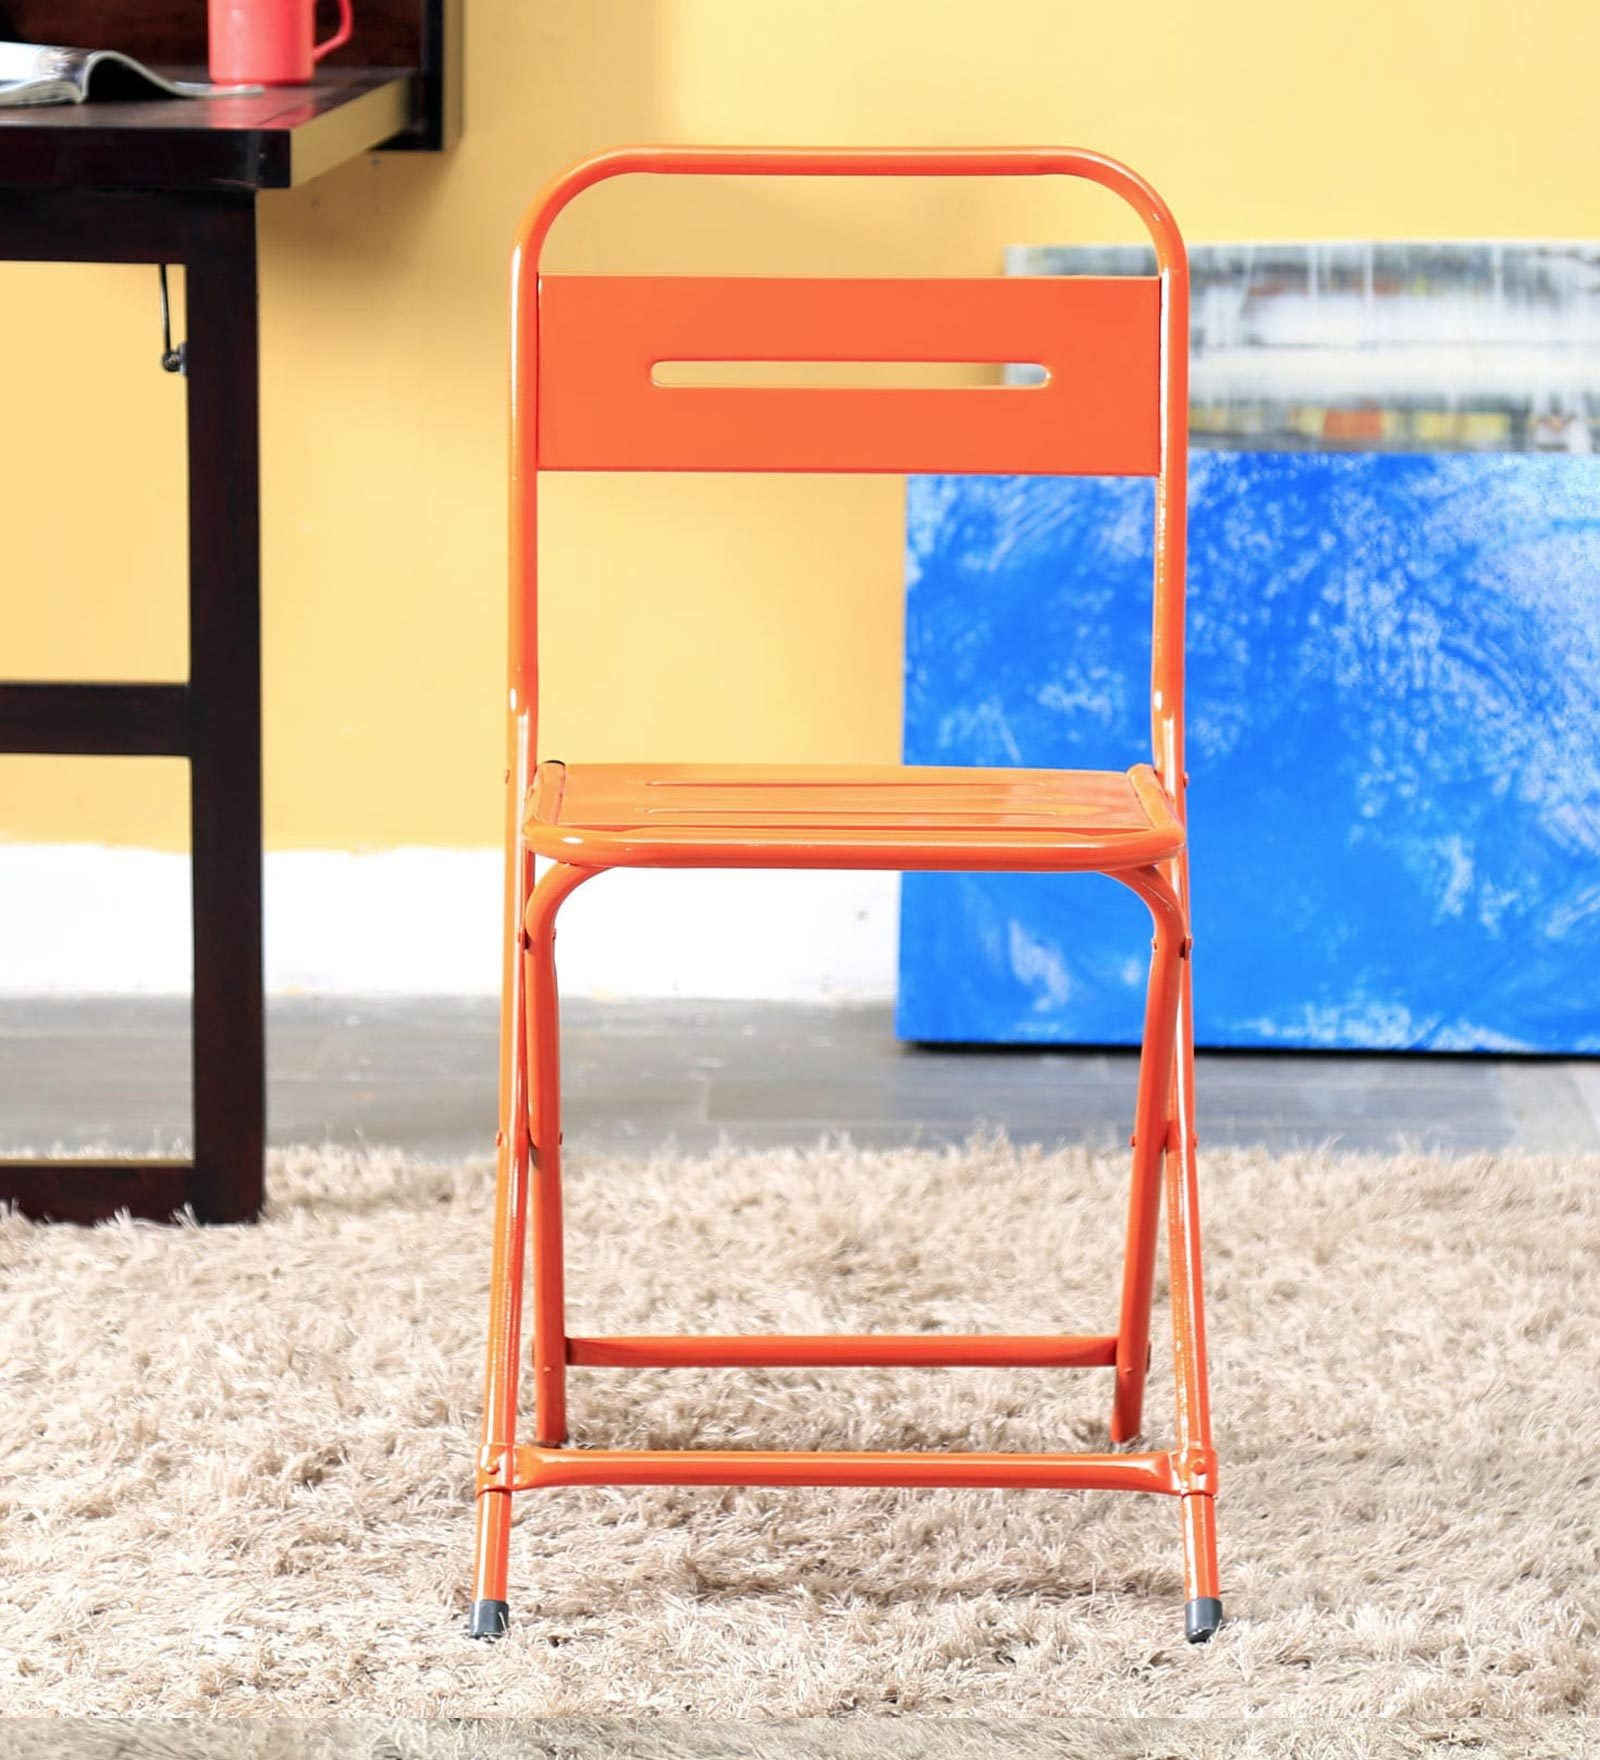Marandoo Grunge Orange Outdoor Folding Chair by Bohemiana: (498, 136, 1234, 1645)
